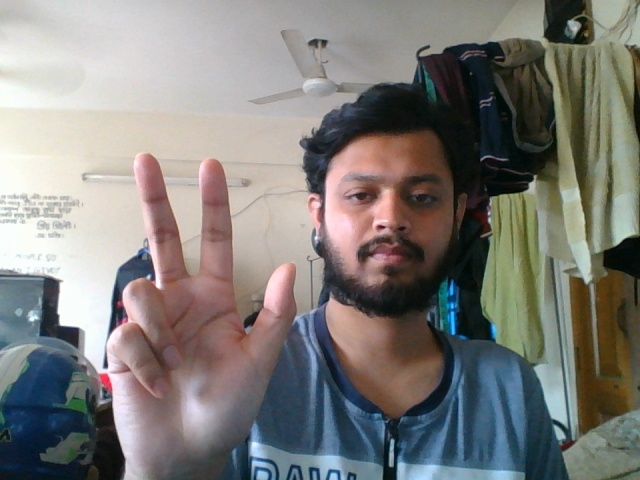da: (102, 145, 308, 467)
